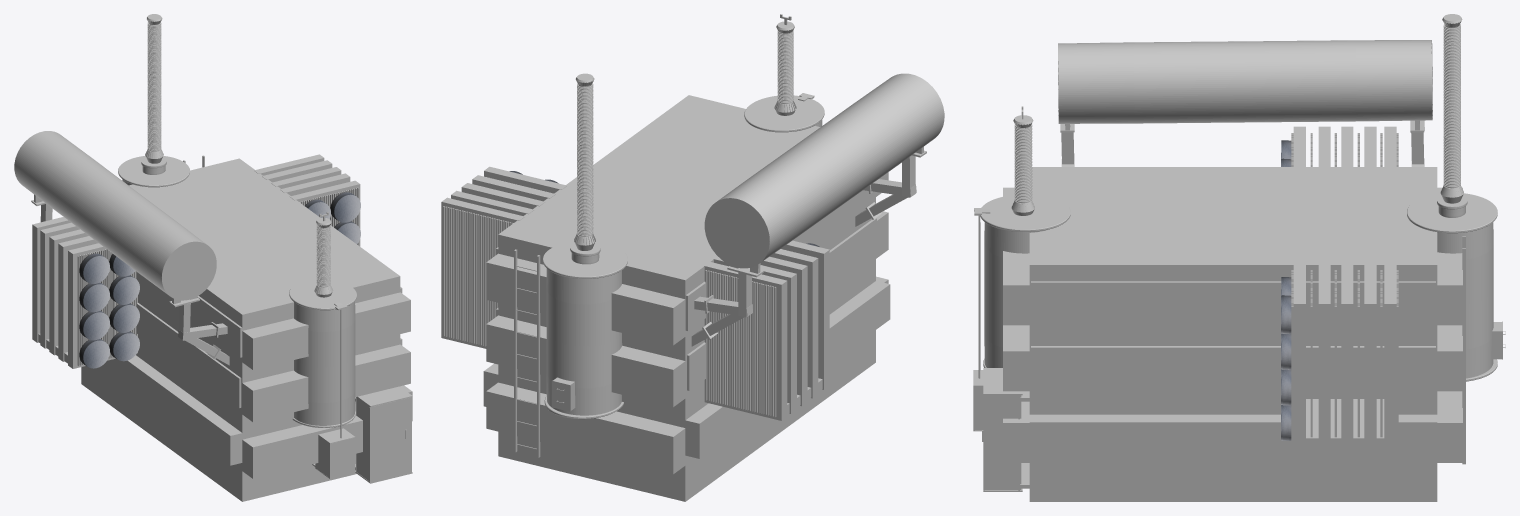
The model's file is generador.fbx.
3 views of the same model, side by side, from view 1: azimuth 30°, elevation 25°; view 2: azimuth 150°, elevation 25°; view 3: azimuth 270°, elevation 25° (orthographic). The views are drawn at different scales.
Parts seen in each view (by area): view 1: Cube.087; view 2: Cube.087; view 3: Cube.087.
Boxes of the visible parts, left/top/right/bottom form: Cube.087: left=14, top=14, right=412, bottom=501; Cube.087: left=441, top=14, right=944, bottom=501; Cube.087: left=973, top=14, right=1505, bottom=501.
Size of the model in its own units: 1232 by 1389 by 1539.
